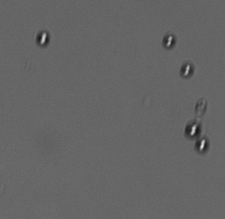Dead Cell: (193, 97, 209, 118)
Living Cell: (184, 121, 201, 139), (194, 135, 209, 153), (35, 30, 51, 46), (179, 61, 194, 78), (162, 32, 176, 49)
